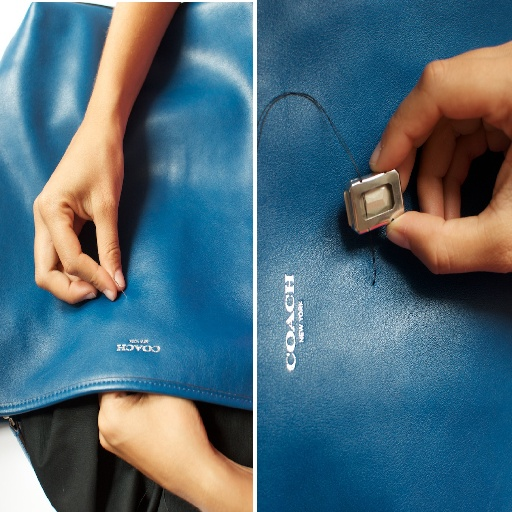hand: (357, 32, 506, 302), (31, 113, 125, 307), (95, 389, 215, 495)
